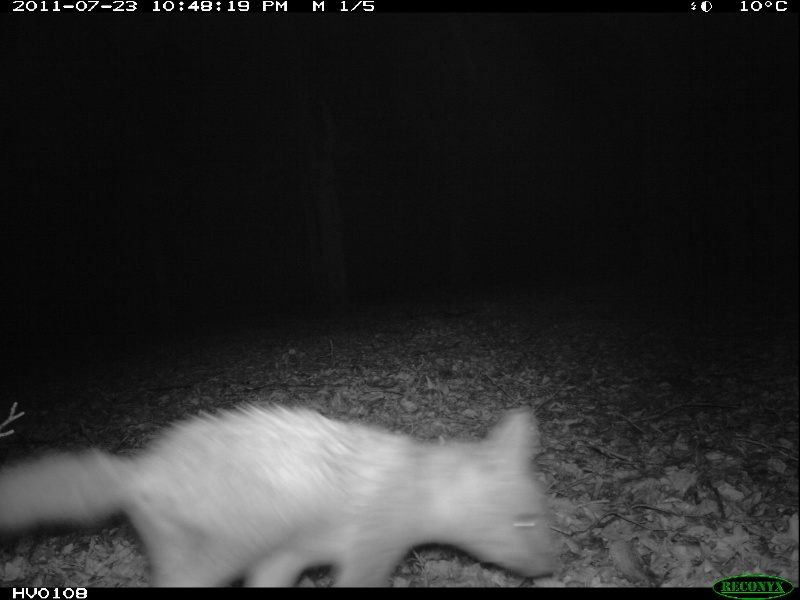fox: (4, 387, 562, 581)
